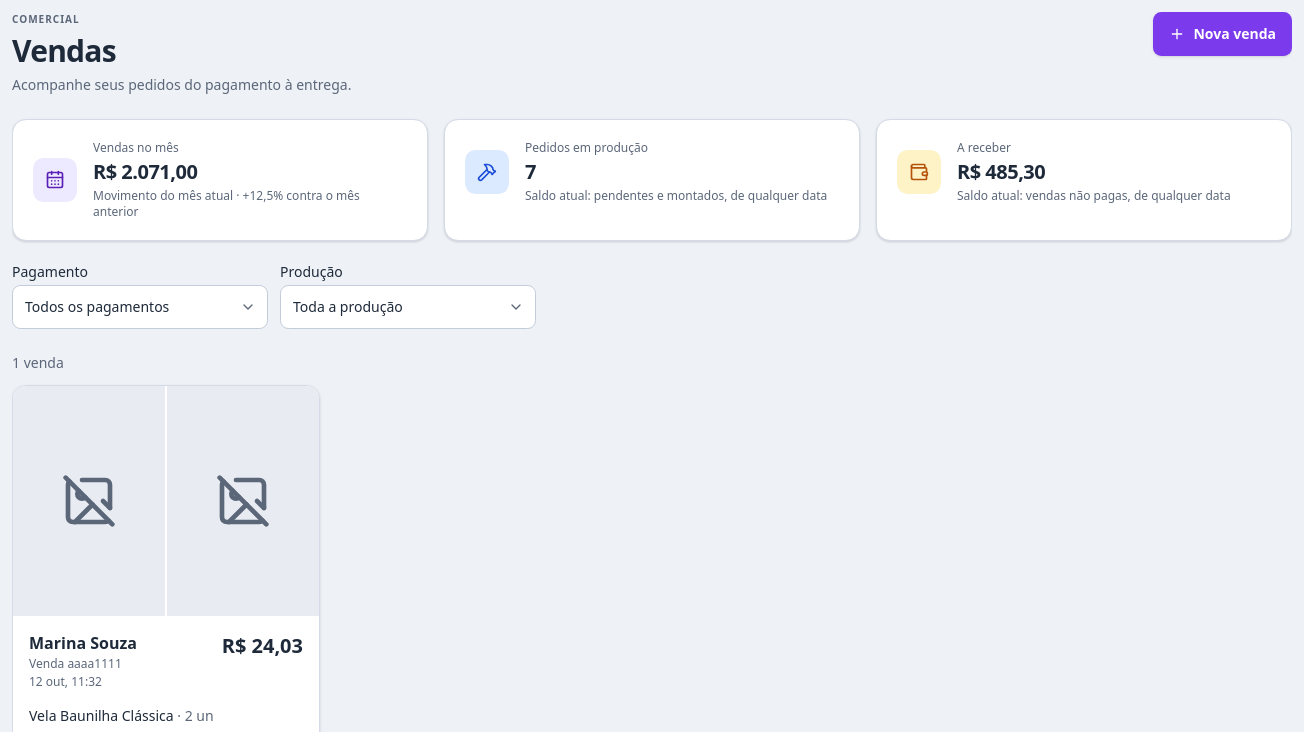
the two filters › say so when nothing matches, and clear with one action
The width and height of the screenshot is (1304, 732).
Expected: the link "Marina Souza" is shown, [29,632,137,654]
Select "Pago" in the dropdown labelled "Pagamento": (140, 307) [12,285,268,329]
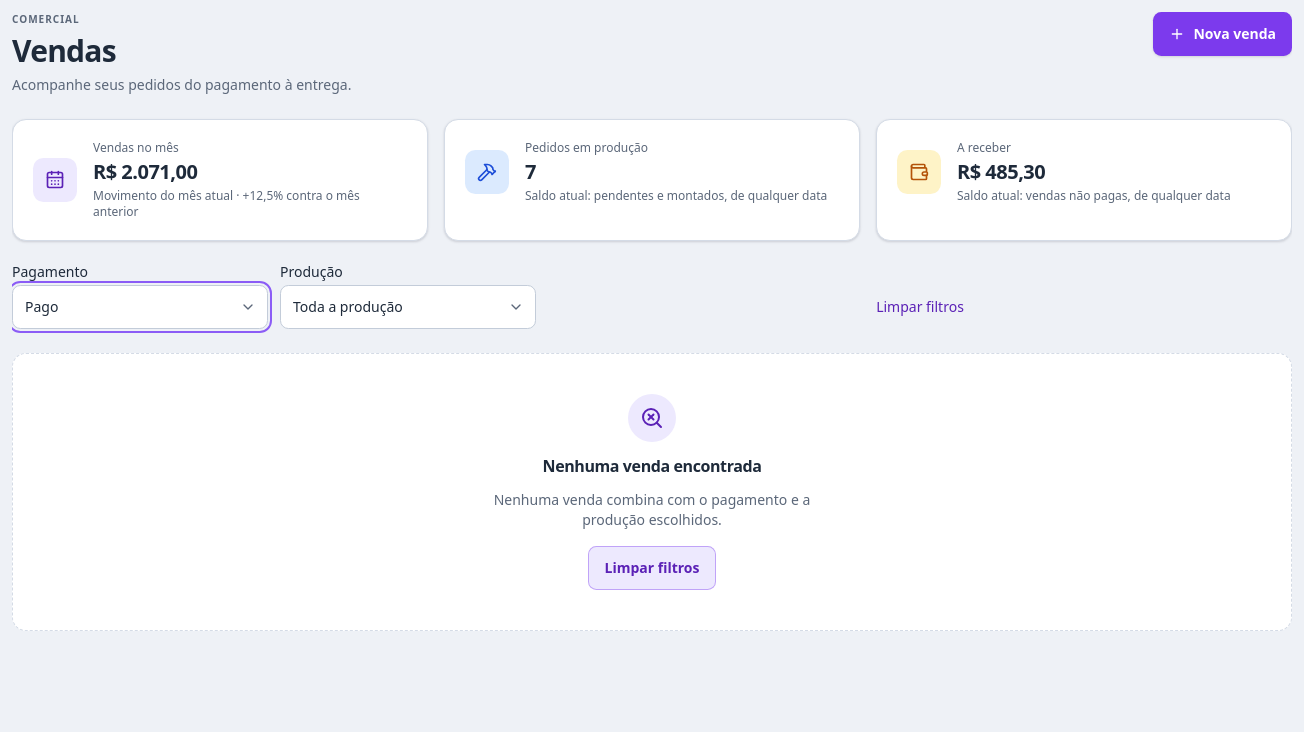
Expected: the heading "Nenhuma venda encontrada" is shown, [542,454,761,478]
Click the 1st button "Limpar filtros": (920, 307) [548,285,1292,329]
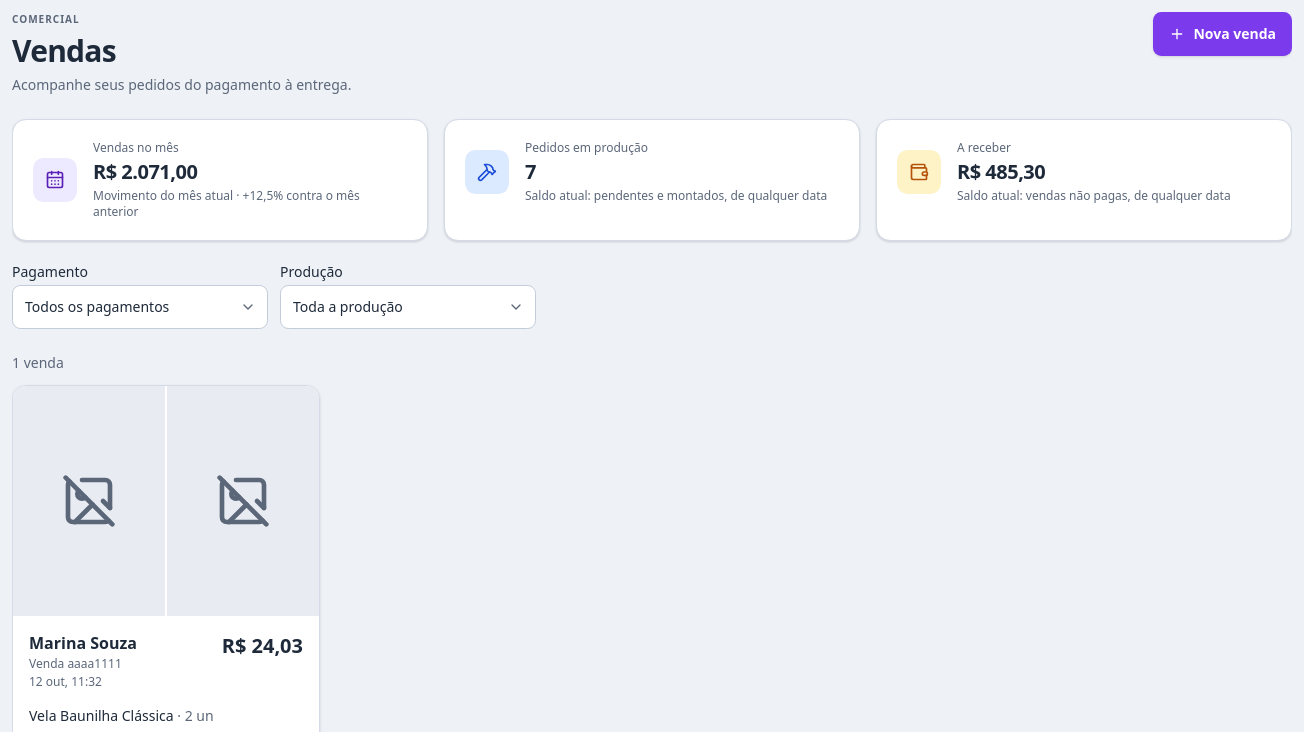
Expected: the link "Marina Souza" is shown, [29,632,137,654]
